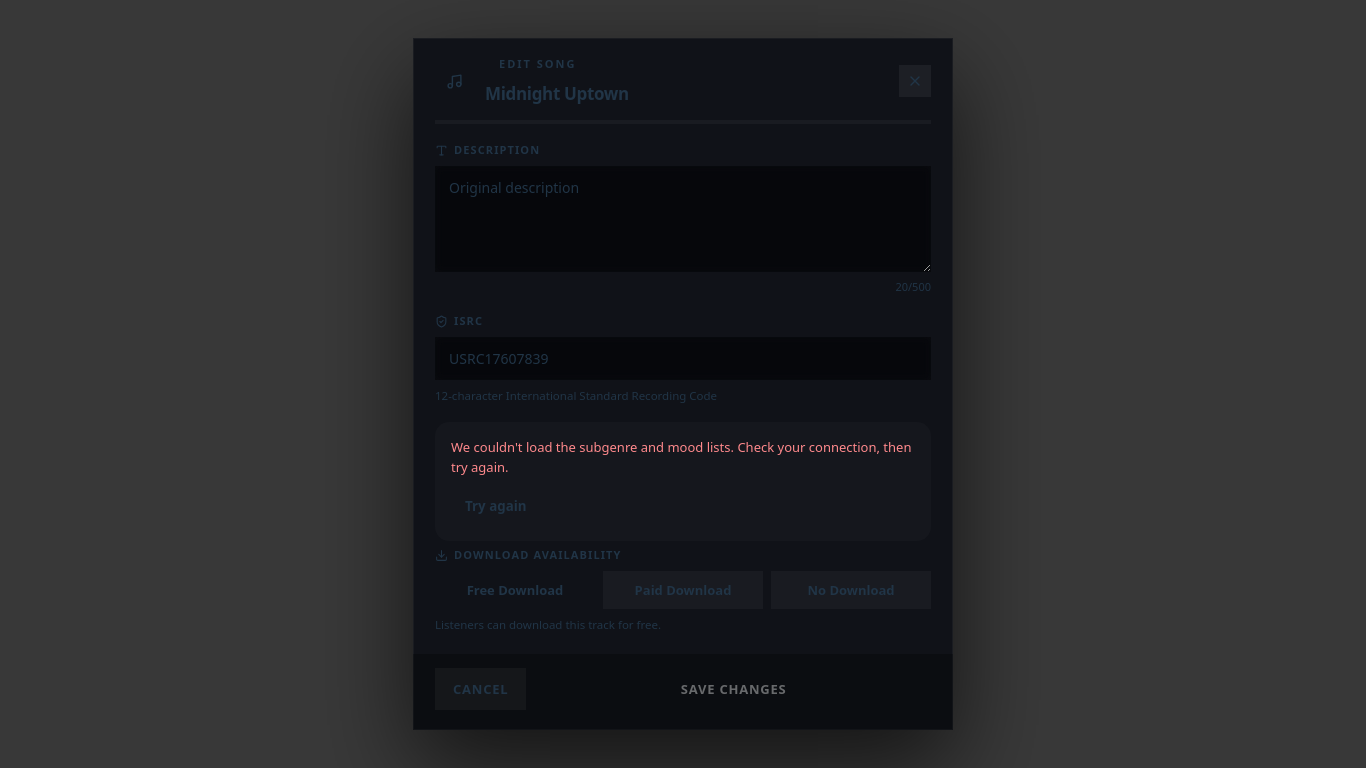
Test: EditSongWizard — download policy › shows the stream-only copy when No Download is active
(page scrolled)
Click the button "No Download" at (851, 590), box [771, 571, 931, 609]
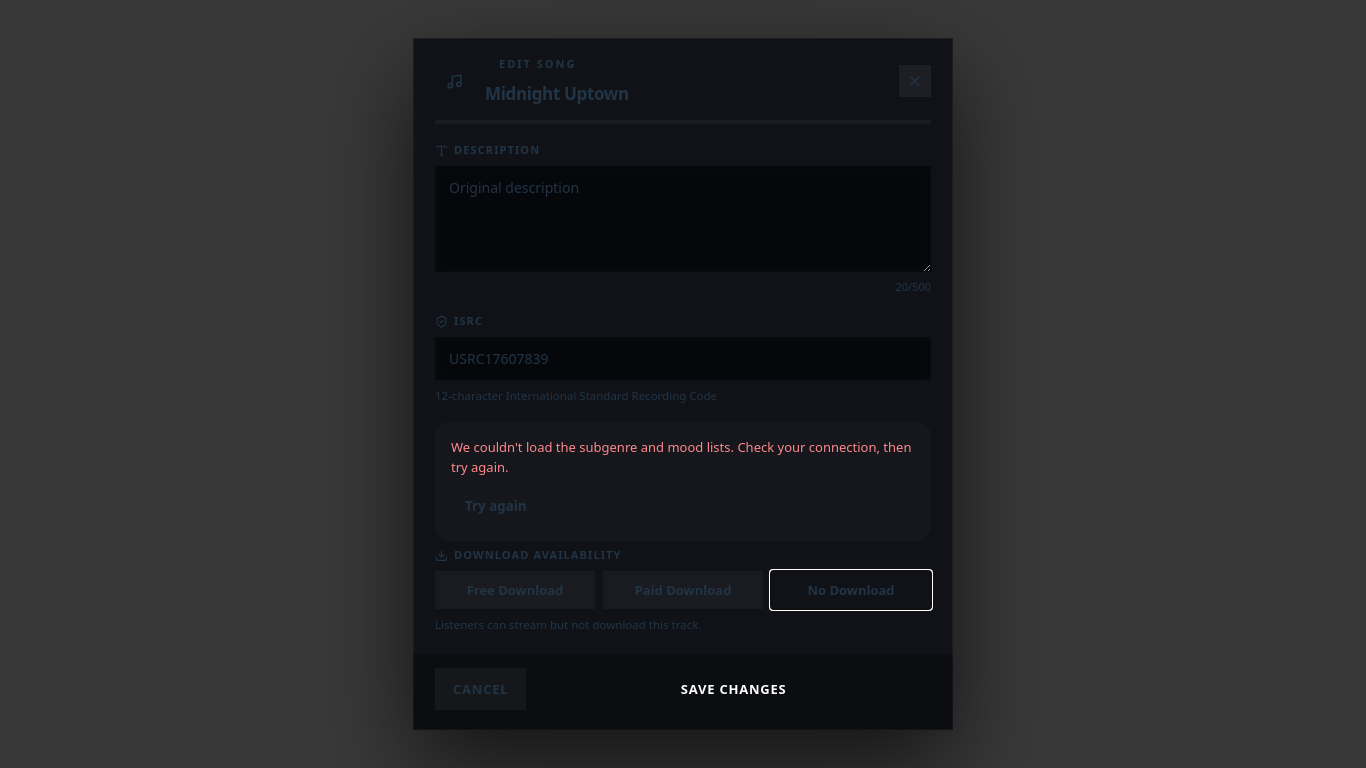
Now the text "Listeners can stream but not download this track." is shown, box [435, 617, 701, 632]
